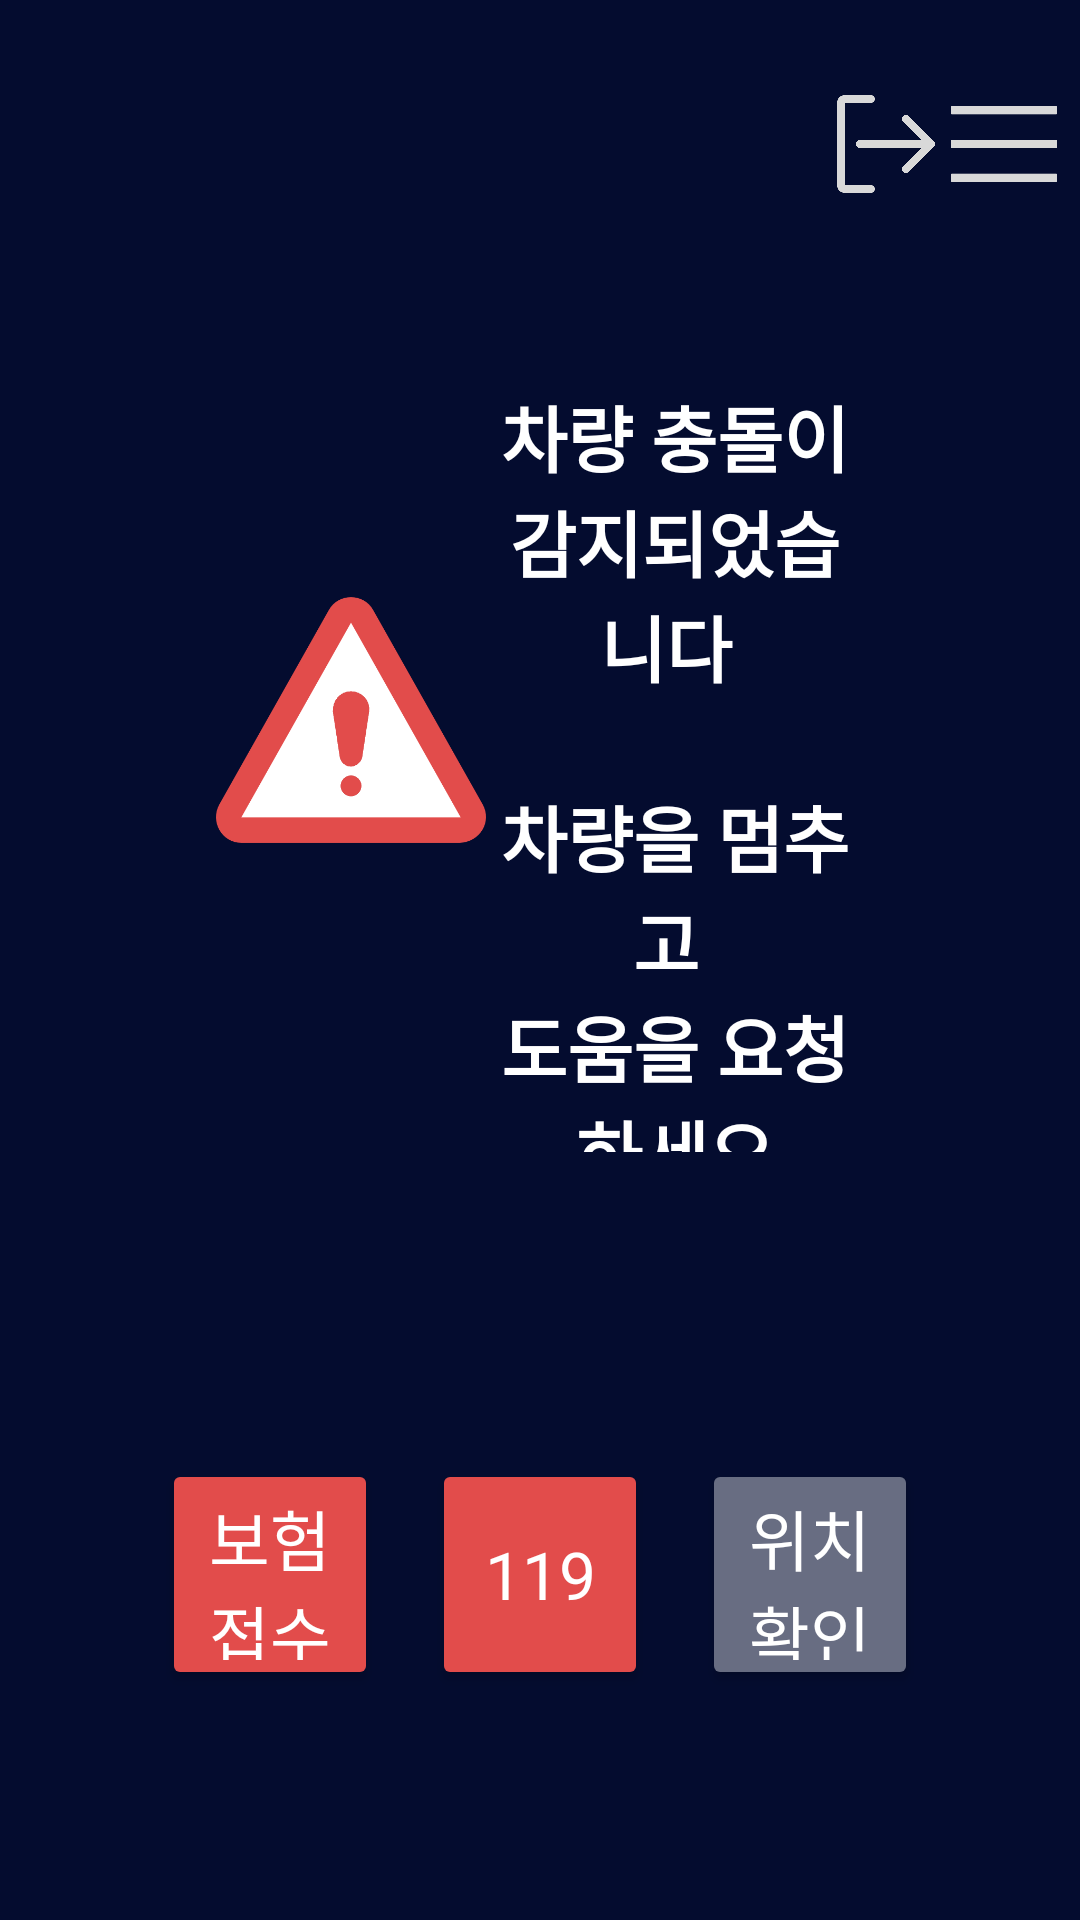

Icons on this 1080w x 1920h Android screen, each with its box as (x1, y1, x2, y2):
menu: (951, 106, 1057, 182)
out: (837, 95, 935, 193)
warning: (216, 597, 486, 843)
